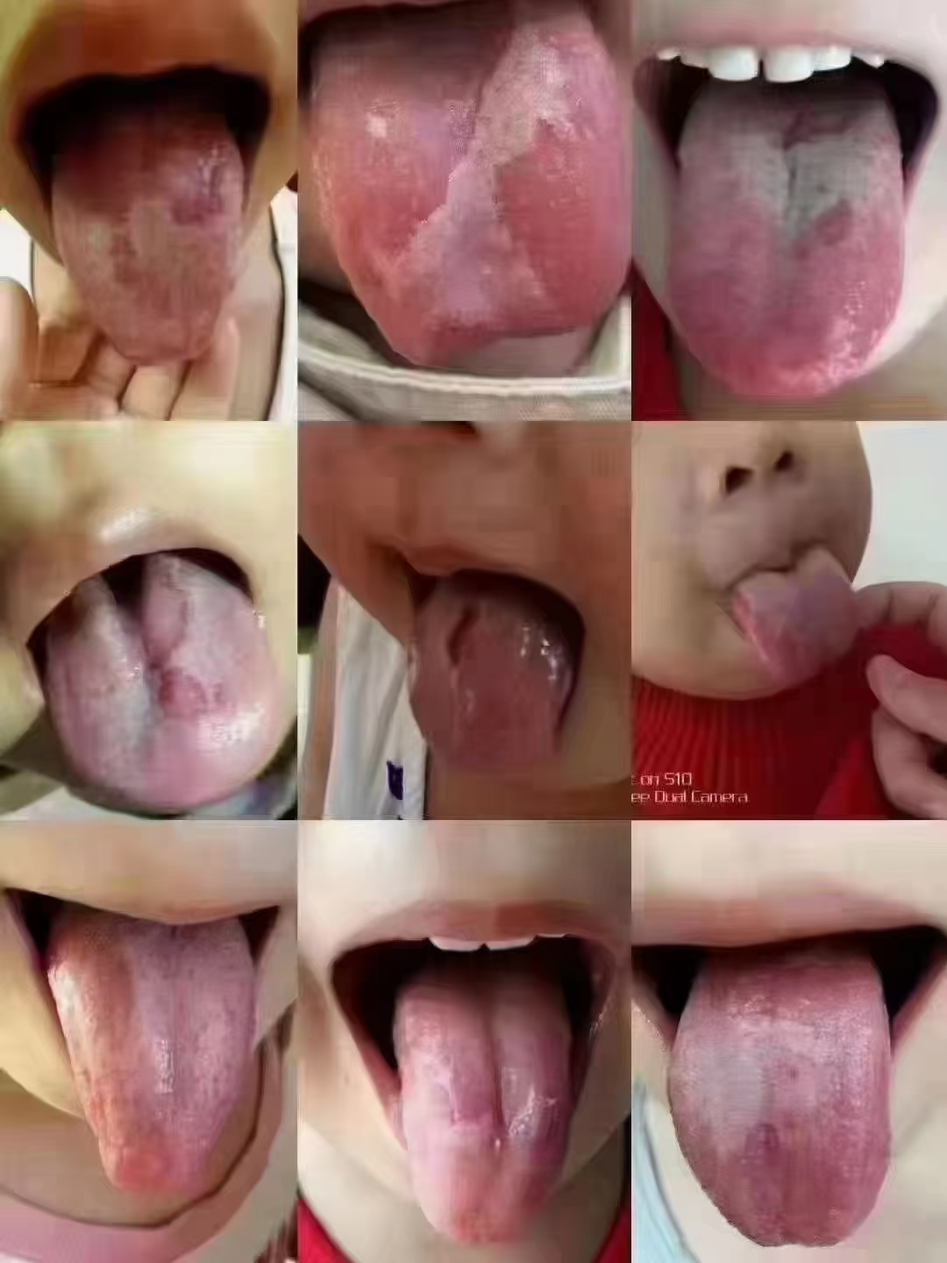baitaishe: (666, 955, 892, 1248), (47, 909, 253, 1194), (391, 981, 567, 1246)
botaishe: (477, 111, 642, 339), (56, 127, 235, 231), (113, 573, 227, 731), (417, 1007, 559, 1131), (715, 1114, 850, 1210), (742, 175, 866, 263), (79, 951, 150, 1052)
hongshe: (309, 5, 635, 365), (49, 103, 244, 365), (727, 549, 864, 686)
liewenshe: (432, 590, 499, 677)
